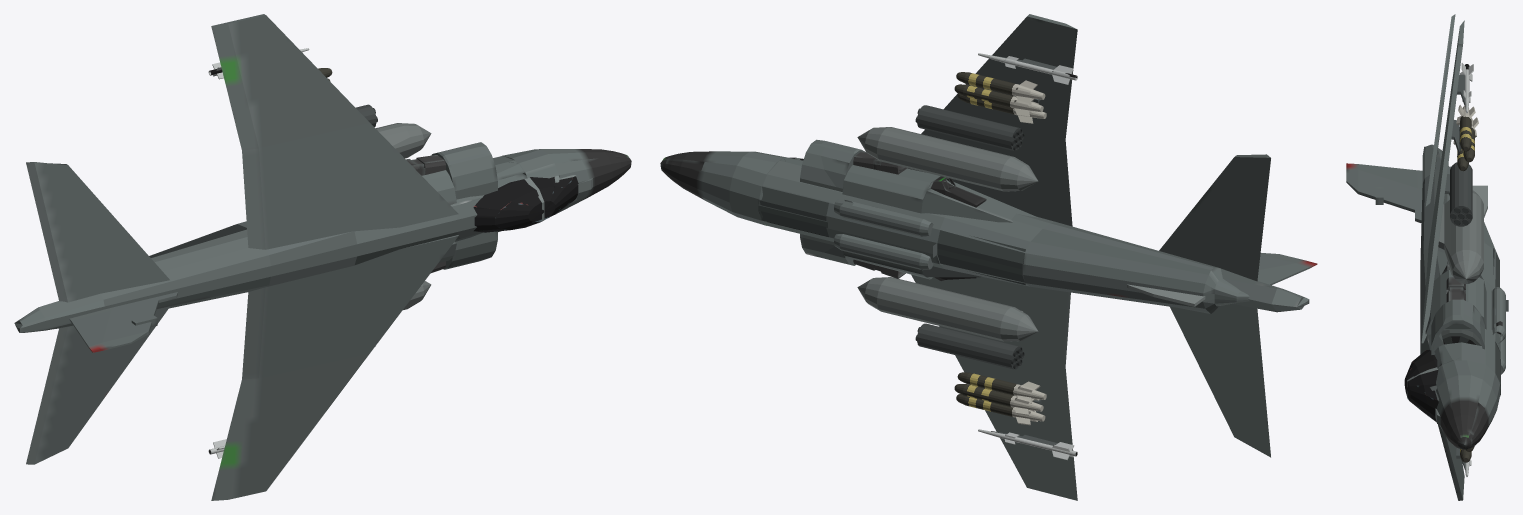
File: Enemy_AV-8B.obj
The picture shows the model from 3 angles, left to right: view 1: azimuth 30°, elevation 25°; view 2: azimuth 150°, elevation 25°; view 3: azimuth 270°, elevation 25°; orthographic projection. The views are drawn at different scales.
Visible parts, largest first — view 1: Object_13, Object_11, Object_8, Object_18, Object_16, Object_46, Object_6, Object_43, Object_25, Object_23, Object_107; view 2: Object_8, Object_11, Object_13, Object_16, Object_18, Object_97, Object_107, Object_6, Object_21, Object_144, Object_110, Object_25 (+18 smaller); view 3: Object_6, Object_8, Object_107, Object_43, Object_13, Object_46, Object_25, Object_21, Object_144, Object_18, Object_11, Object_74 (+8 smaller).
Part boxes in pixels (x1=…): Object_13: x1=211, y1=14, x2=458, y2=249; Object_11: x1=211, y1=235, x2=458, y2=500; Object_8: x1=14, y1=156, x2=527, y2=332; Object_18: x1=26, y1=162, x2=169, y2=302; Object_16: x1=26, y1=306, x2=169, y2=464; Object_46: x1=473, y1=176, x2=578, y2=232; Object_6: x1=502, y1=149, x2=631, y2=214; Object_43: x1=69, y1=292, x2=177, y2=352; Object_25: x1=431, y1=142, x2=497, y2=199; Object_23: x1=443, y1=231, x2=497, y2=269; Object_107: x1=376, y1=123, x2=431, y2=158; Object_8: x1=759, y1=157, x2=1309, y2=313; Object_11: x1=911, y1=274, x2=1077, y2=500; Object_13: x1=908, y1=14, x2=1077, y2=226; Object_16: x1=1170, y1=304, x2=1270, y2=457; Object_18: x1=1159, y1=154, x2=1270, y2=281; Object_97: x1=857, y1=277, x2=1038, y2=341; Object_107: x1=857, y1=127, x2=1038, y2=191; Object_6: x1=660, y1=151, x2=786, y2=225; Object_21: x1=842, y1=165, x2=1037, y2=222; Object_144: x1=917, y1=105, x2=1022, y2=150; Object_110: x1=917, y1=323, x2=1022, y2=369; Object_25: x1=800, y1=139, x2=863, y2=191; Object_6: x1=1436, y1=358, x2=1499, y2=449; Object_8: x1=1420, y1=144, x2=1508, y2=388; Object_107: x1=1438, y1=190, x2=1483, y2=283; Object_43: x1=1346, y1=163, x2=1422, y2=223; Object_13: x1=1421, y1=20, x2=1464, y2=343; Object_46: x1=1404, y1=350, x2=1441, y2=421; Object_25: x1=1431, y1=299, x2=1484, y2=354; Object_21: x1=1425, y1=251, x2=1486, y2=334; Object_144: x1=1450, y1=162, x2=1472, y2=226; Object_18: x1=1425, y1=14, x2=1455, y2=206; Object_11: x1=1438, y1=424, x2=1464, y2=500; Object_74: x1=1491, y1=287, x2=1505, y2=343.
Bounding box in the file's own units: 5.42 × 3.9 × 1.25.
9 materials, 9 textured.
